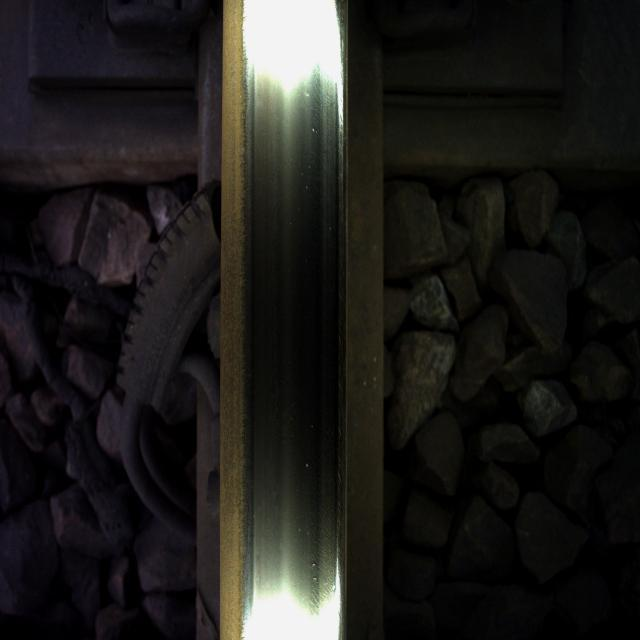break: (252, 42, 342, 600)
